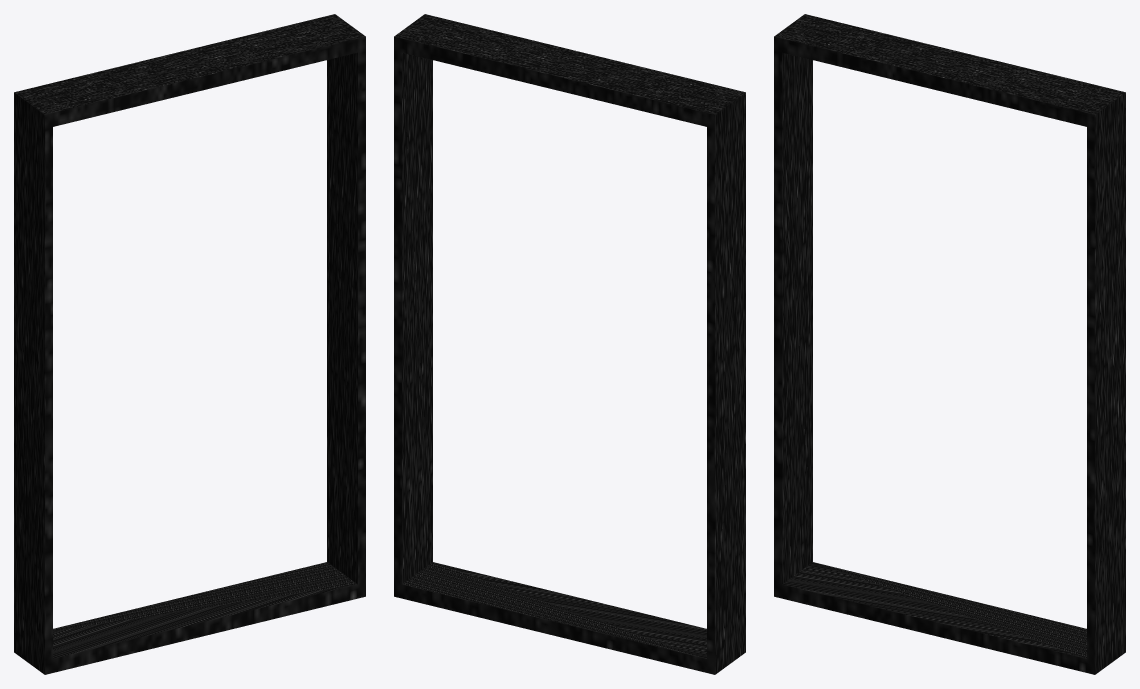
Rendered from DoorFrame.obj.
3 views of the same model, side by side, from view 1: azimuth 30°, elevation 25°; view 2: azimuth 150°, elevation 25°; view 3: azimuth 330°, elevation 25° (orthographic).
Parts seen in each view (by area): view 1: frame; view 2: frame; view 3: frame.
Boxes of the visible parts, box(x1,y1,x2,y2) form: frame: box(14, 14, 365, 674); frame: box(394, 14, 745, 674); frame: box(774, 14, 1125, 674).
Bounding box in the file's own units: 1.98 × 3.3 × 0.33.
1 material, 1 textured.
